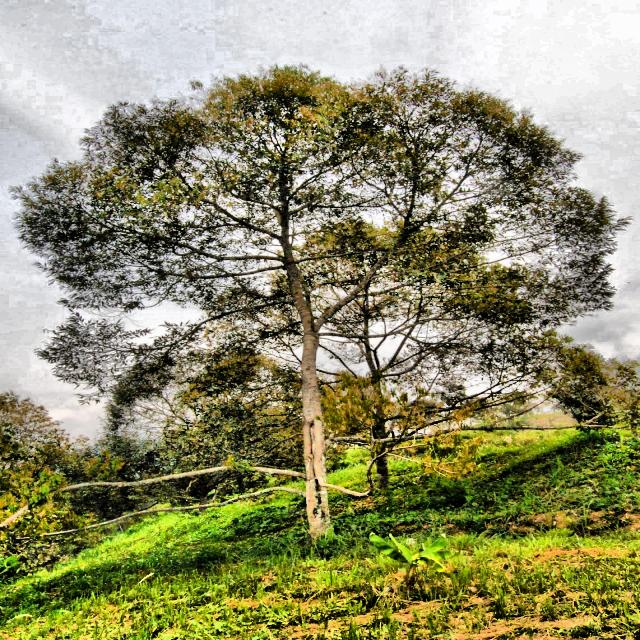arvore: (266, 249, 360, 551), (353, 285, 419, 509)
